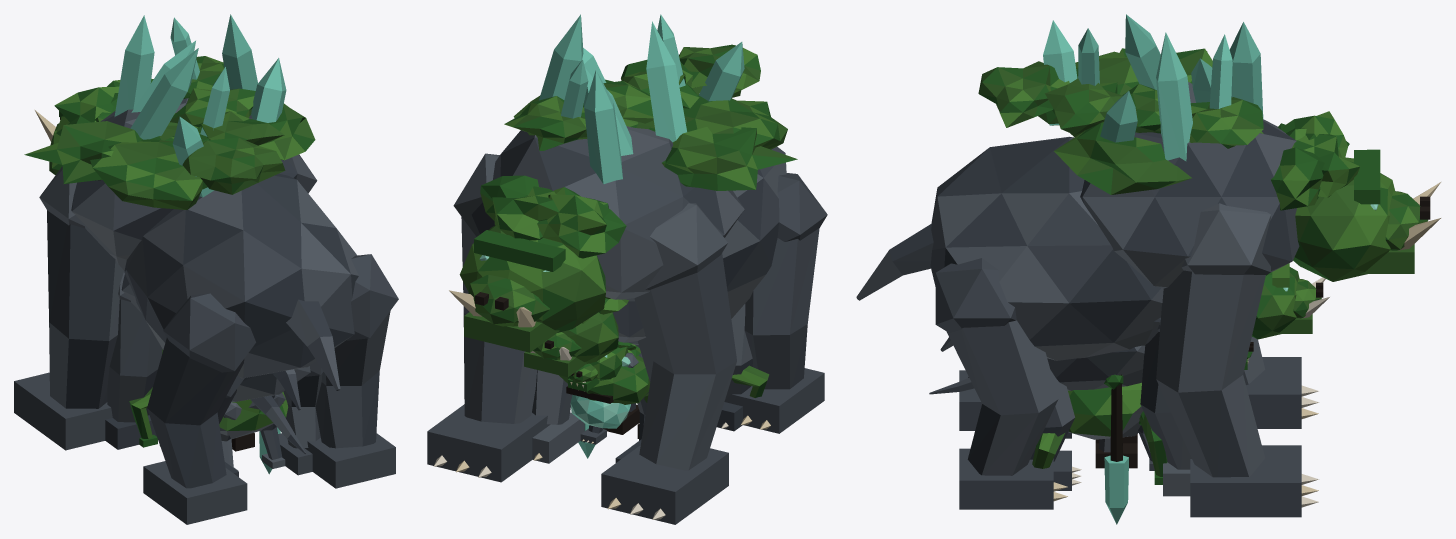
Rendered from foes-cave.glb.
3 renders of one model, left to right at view 1: azimuth 30°, elevation 25°; view 2: azimuth 150°, elevation 25°; view 3: azimuth 270°, elevation 25°, orthographic. The views are drawn at different scales.
Parts seen in each view (by area): view 1: fo_cave_boss_body, fo_cave_boss_legBL, fo_cave_boss_legFL, fo_cave_boss_legBR, fo_cave_boss_bodyGlow, fo_cave_brute_legFL, fo_cave_brute_legBR, fo_cave_boss_head, fo_cave_boss_tail, fo_cave_brute_body, fo_cave_spitter_body, fo_cave_skirmisher_tail (+5 smaller); view 2: fo_cave_boss_body, fo_cave_boss_legFL, fo_cave_boss_head, fo_cave_boss_legBL, fo_cave_boss_legFR, fo_cave_boss_bodyGlow, fo_cave_brute_legFR, fo_cave_brute_head, fo_cave_spitter_head, fo_cave_boss_jaw, fo_cave_brute_legBL, fo_cave_spitter_sacGlow (+5 smaller); view 3: fo_cave_boss_body, fo_cave_boss_legFR, fo_cave_boss_legBR, fo_cave_boss_head, fo_cave_boss_bodyGlow, fo_cave_boss_legFL, fo_cave_brute_legFR, fo_cave_brute_head, fo_cave_brute_body, fo_cave_spitter_body, fo_cave_boss_tail, fo_cave_brute_legBR (+7 smaller).
Part boxes in pixels (<box>): fo_cave_boss_body: <box>24,56,358,378</box>; fo_cave_boss_legBL: <box>143,293,255,524</box>; fo_cave_boss_legFL: <box>14,166,123,450</box>; fo_cave_boss_legBR: <box>305,254,398,488</box>; fo_cave_boss_bodyGlow: <box>114,14,286,197</box>; fo_cave_brute_legFL: <box>105,271,162,449</box>; fo_cave_brute_legBR: <box>278,361,323,475</box>; fo_cave_boss_head: <box>34,78,153,173</box>; fo_cave_boss_tail: <box>286,299,340,390</box>; fo_cave_brute_body: <box>121,274,310,401</box>; fo_cave_spitter_body: <box>219,392,288,438</box>; fo_cave_skirmisher_tail: <box>250,395,305,453</box>; fo_cave_boss_body: <box>471,44,797,318</box>; fo_cave_boss_legFL: <box>601,203,736,524</box>; fo_cave_boss_head: <box>449,175,626,332</box>; fo_cave_boss_legBL: <box>724,173,827,433</box>; fo_cave_boss_legFR: <box>427,153,550,482</box>; fo_cave_boss_bodyGlow: <box>539,14,744,184</box>; fo_cave_brute_legFR: <box>532,370,584,463</box>; fo_cave_brute_head: <box>530,297,628,363</box>; fo_cave_spitter_head: <box>559,344,650,404</box>; fo_cave_boss_jaw: <box>464,312,559,352</box>; fo_cave_brute_legBL: <box>716,304,752,431</box>; fo_cave_spitter_sacGlow: <box>570,395,630,428</box>; fo_cave_boss_body: <box>930,48,1299,360</box>; fo_cave_boss_legFR: <box>1156,203,1318,517</box>; fo_cave_boss_legBR: <box>935,258,1067,509</box>; fo_cave_boss_head: <box>1271,111,1440,281</box>; fo_cave_boss_bodyGlow: <box>1043,14,1263,161</box>; fo_cave_boss_legFL: <box>1243,337,1318,428</box>; fo_cave_brute_legFR: <box>1140,323,1191,496</box>; fo_cave_brute_head: <box>1252,263,1329,339</box>; fo_cave_brute_body: <box>1047,317,1160,390</box>; fo_cave_spitter_body: <box>1068,382,1143,439</box>; fo_cave_boss_tail: <box>856,223,933,300</box>; fo_cave_brute_legBR: <box>1030,370,1081,490</box>.
Bounding box in the file's own units: 1.95 × 3.04 × 3.33.
